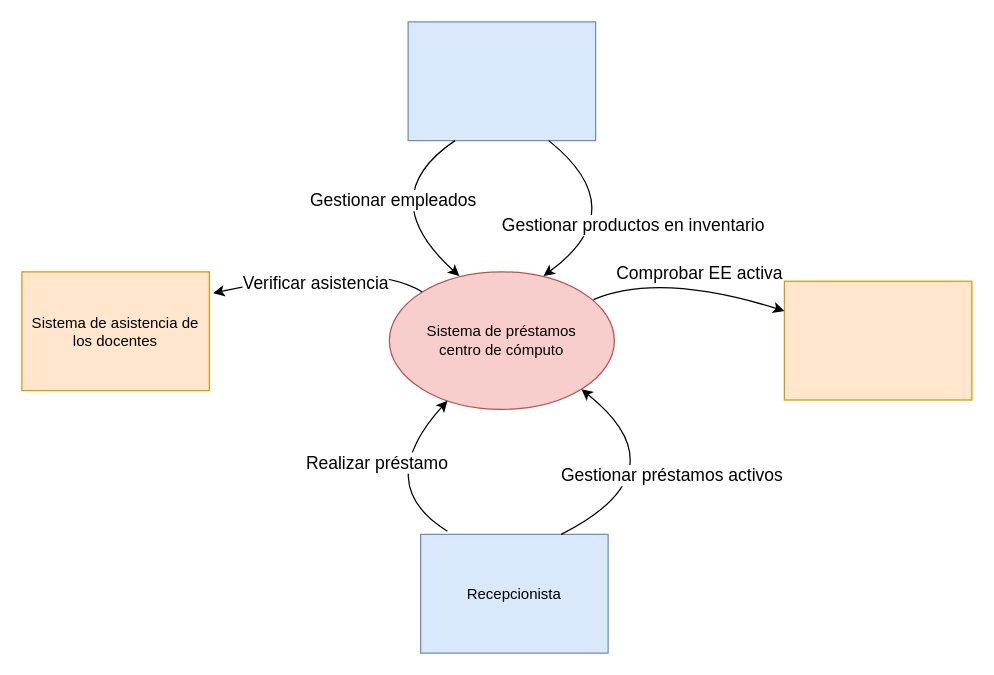
Image size: 994x675. Some labels were removed from this diagram. The centre of each missing label's shape, as x and y in pixels:
Administrador: (x=501, y=81)
Sistema de horario de las experiencais educativas: (x=877, y=340)
